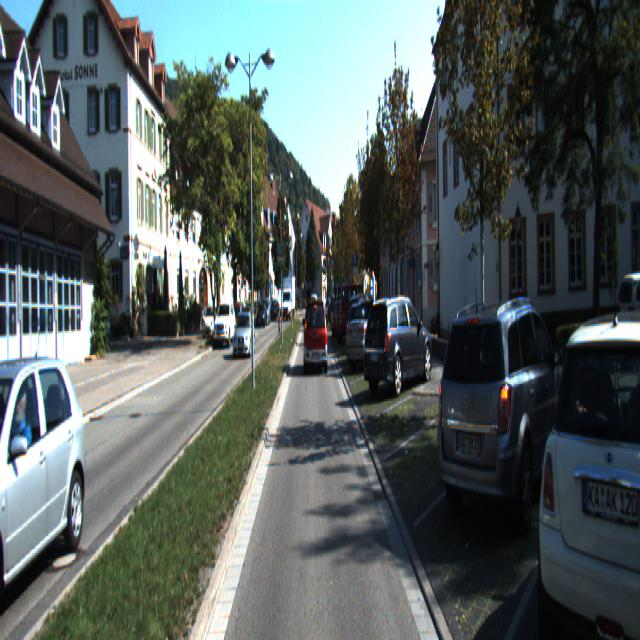Car: (534, 297, 640, 638), (434, 302, 574, 553), (0, 346, 96, 623), (363, 292, 434, 394), (344, 298, 398, 368), (332, 284, 370, 344), (304, 298, 328, 374), (233, 312, 256, 358), (214, 300, 236, 346), (227, 299, 245, 338), (203, 303, 217, 337), (255, 303, 268, 327)
